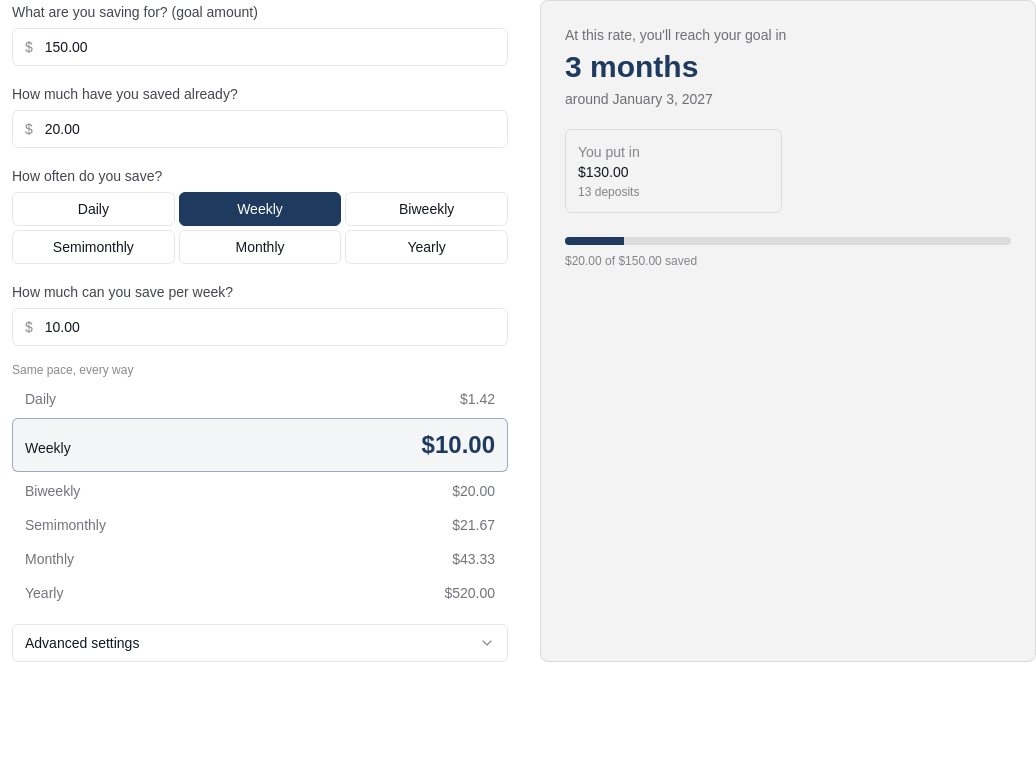
Test: Sinking Fund Calculator › says so when the goal is already met, or nothing is being saved
The width and height of the screenshot is (1036, 768).
Replace the text in the field with id "saved" with "150" at (270, 129), box [33,111,507,147]
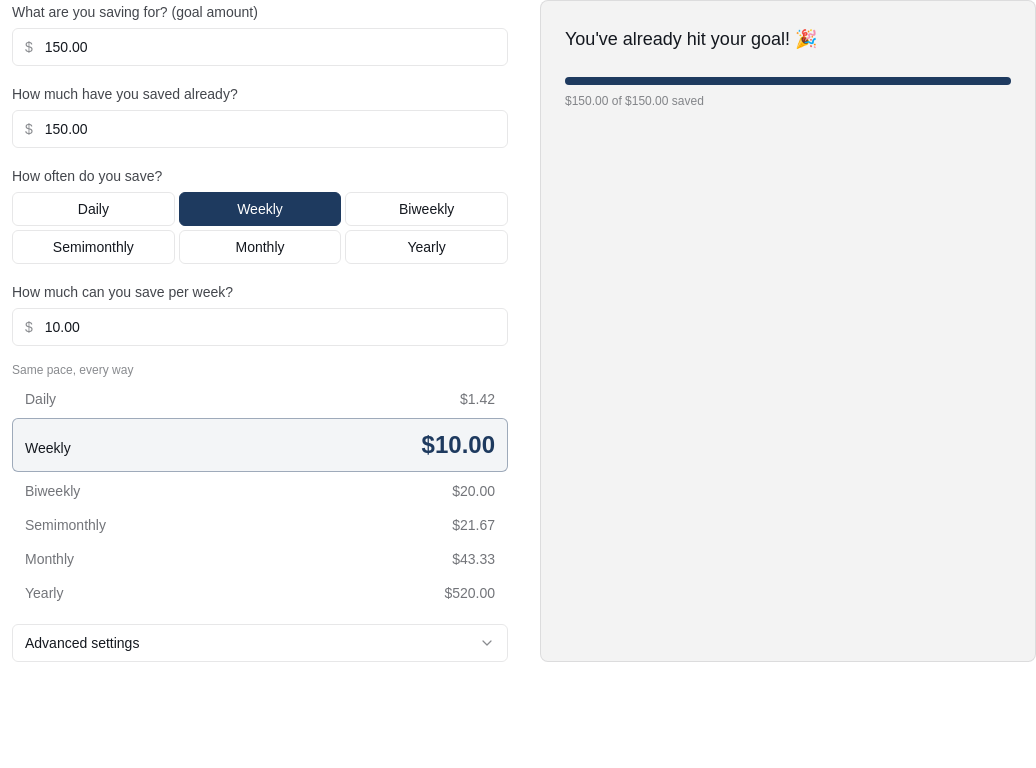
Expected: the text "already hit your goal" is shown, [565,29,817,49]
Replace the text in the field with id "saved" with "20" at (270, 129), box [33,111,507,147]
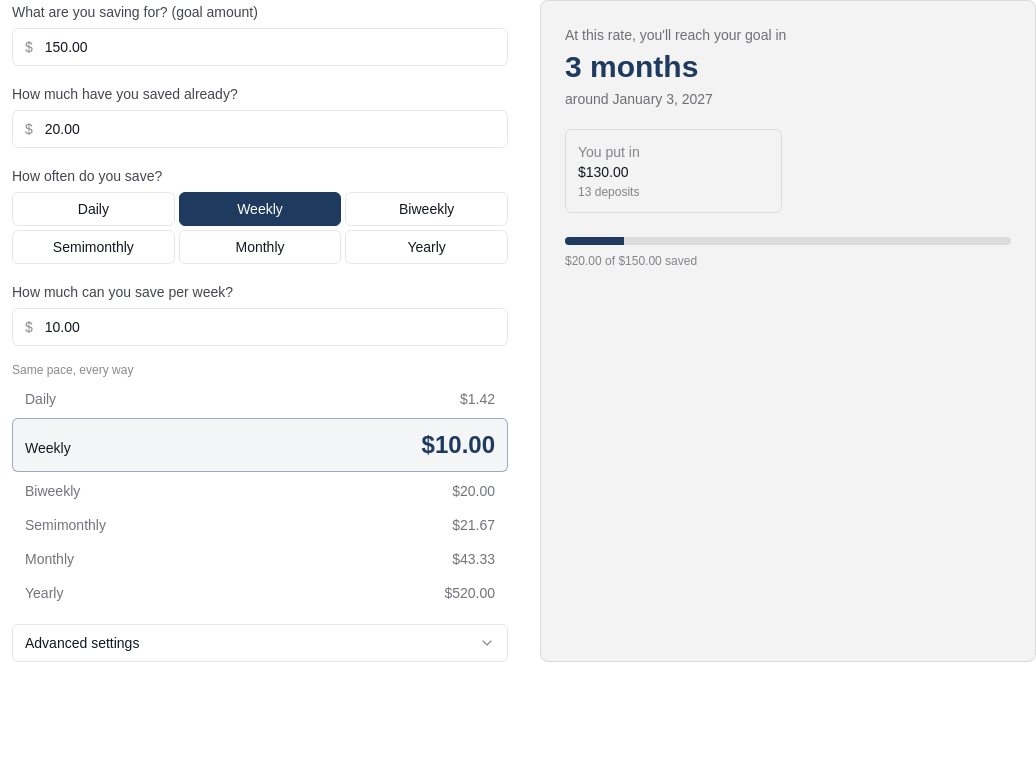
Replace the text in the field with id "contribution" with "0" at (270, 327), box [33,309,507,345]
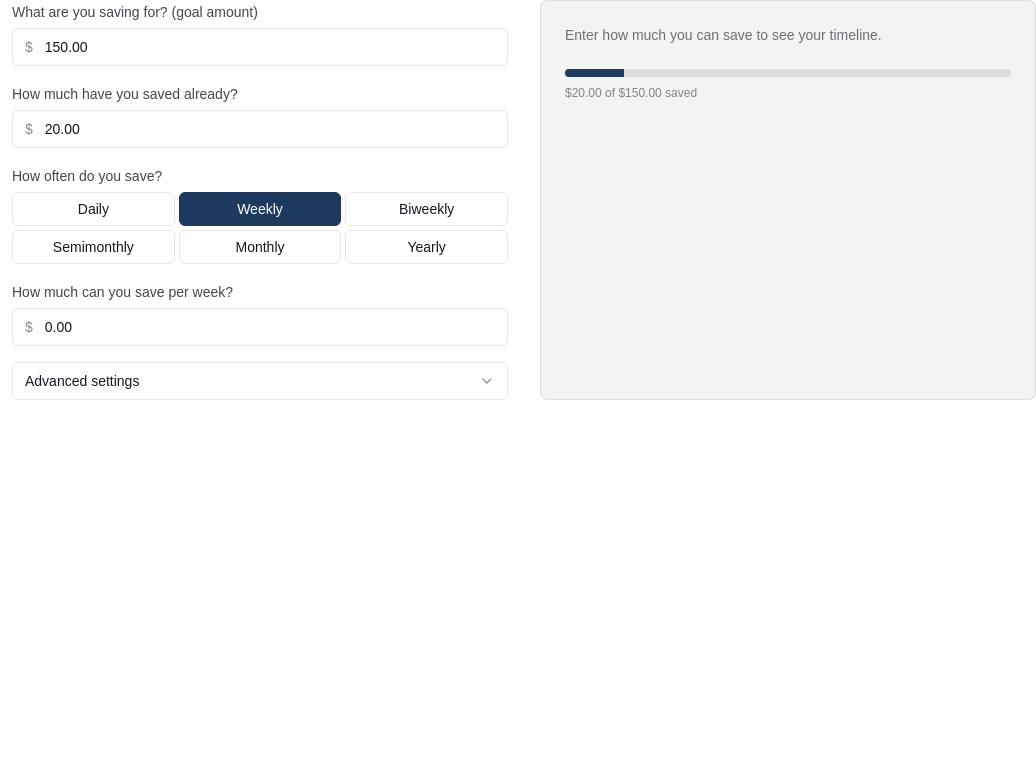
Expected: the text "Enter how much you can save" is shown, [565,27,882,43]
